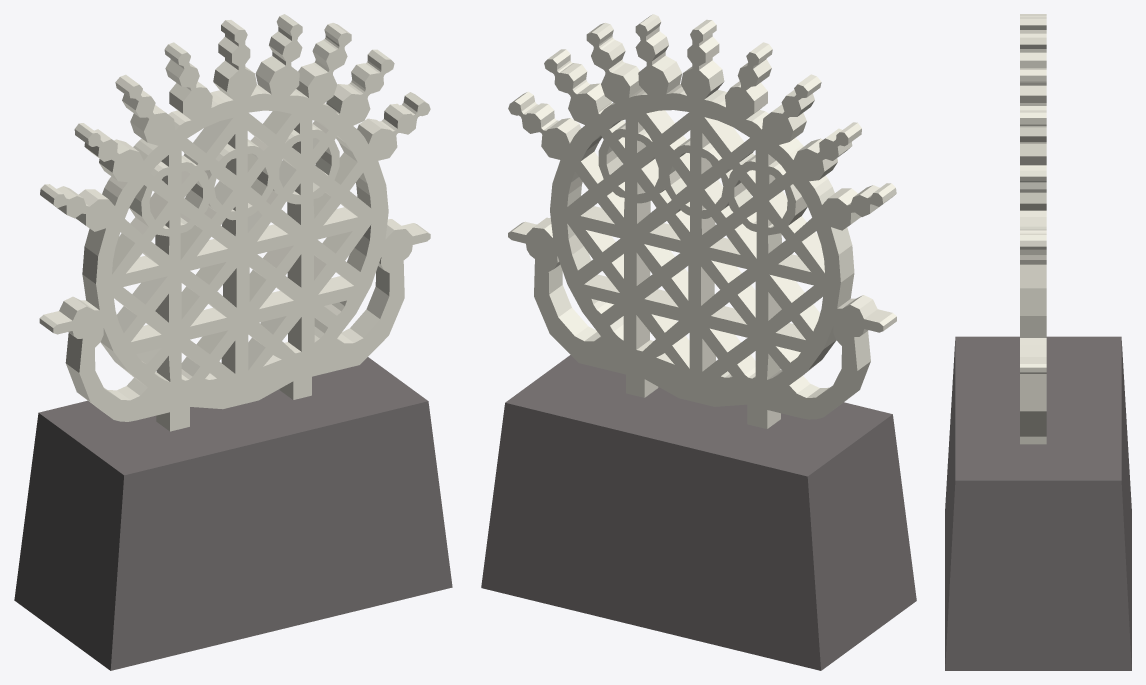
File: gunes-kursu.dae
The picture shows the model from 3 angles, left to right: view 1: azimuth 30°, elevation 25°; view 2: azimuth 150°, elevation 25°; view 3: azimuth 270°, elevation 25°; orthographic projection. The views are drawn at different scales.
Visible parts, largest first — view 1: SketchUp, group_0 (×3); view 2: SketchUp, group_0 (×3); view 3: SketchUp, group_0.
Part boxes in pixels (x1=…): SketchUp: x1=14, y1=357, x2=452, y2=670; group_0 (×3): x1=39, y1=14, x2=430, y2=431; SketchUp: x1=481, y1=355, x2=916, y2=670; group_0 (×3): x1=508, y1=14, x2=896, y2=428; SketchUp: x1=945, y1=336, x2=1131, y2=670; group_0: x1=1020, y1=14, x2=1046, y2=444.
Bounding box in the file's own units: 124 × 54.72 × 179.
Materials: 2 (1 with a texture image).
